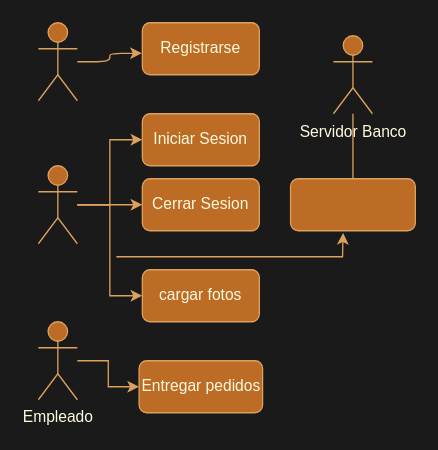
The diagram is 438 pixels wide and 450 high, and some of its shapes have lost their labels. Each missing label, with the centre of its shape:
Pagar: the point at 352,204
Persona: the point at 57,61
Usuario: the point at 57,204
